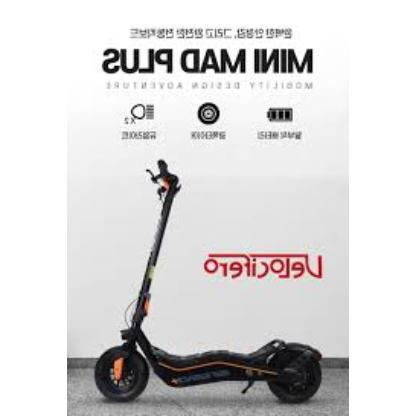bike: (94, 160, 323, 406)
